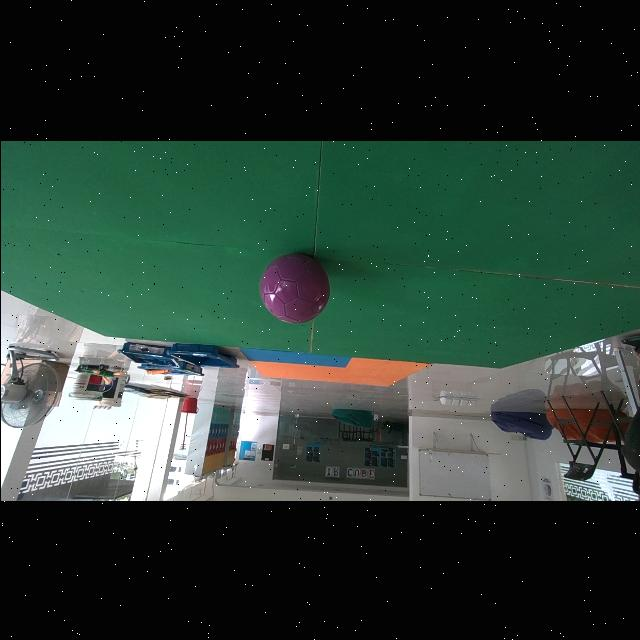P: (258, 252, 329, 323)
